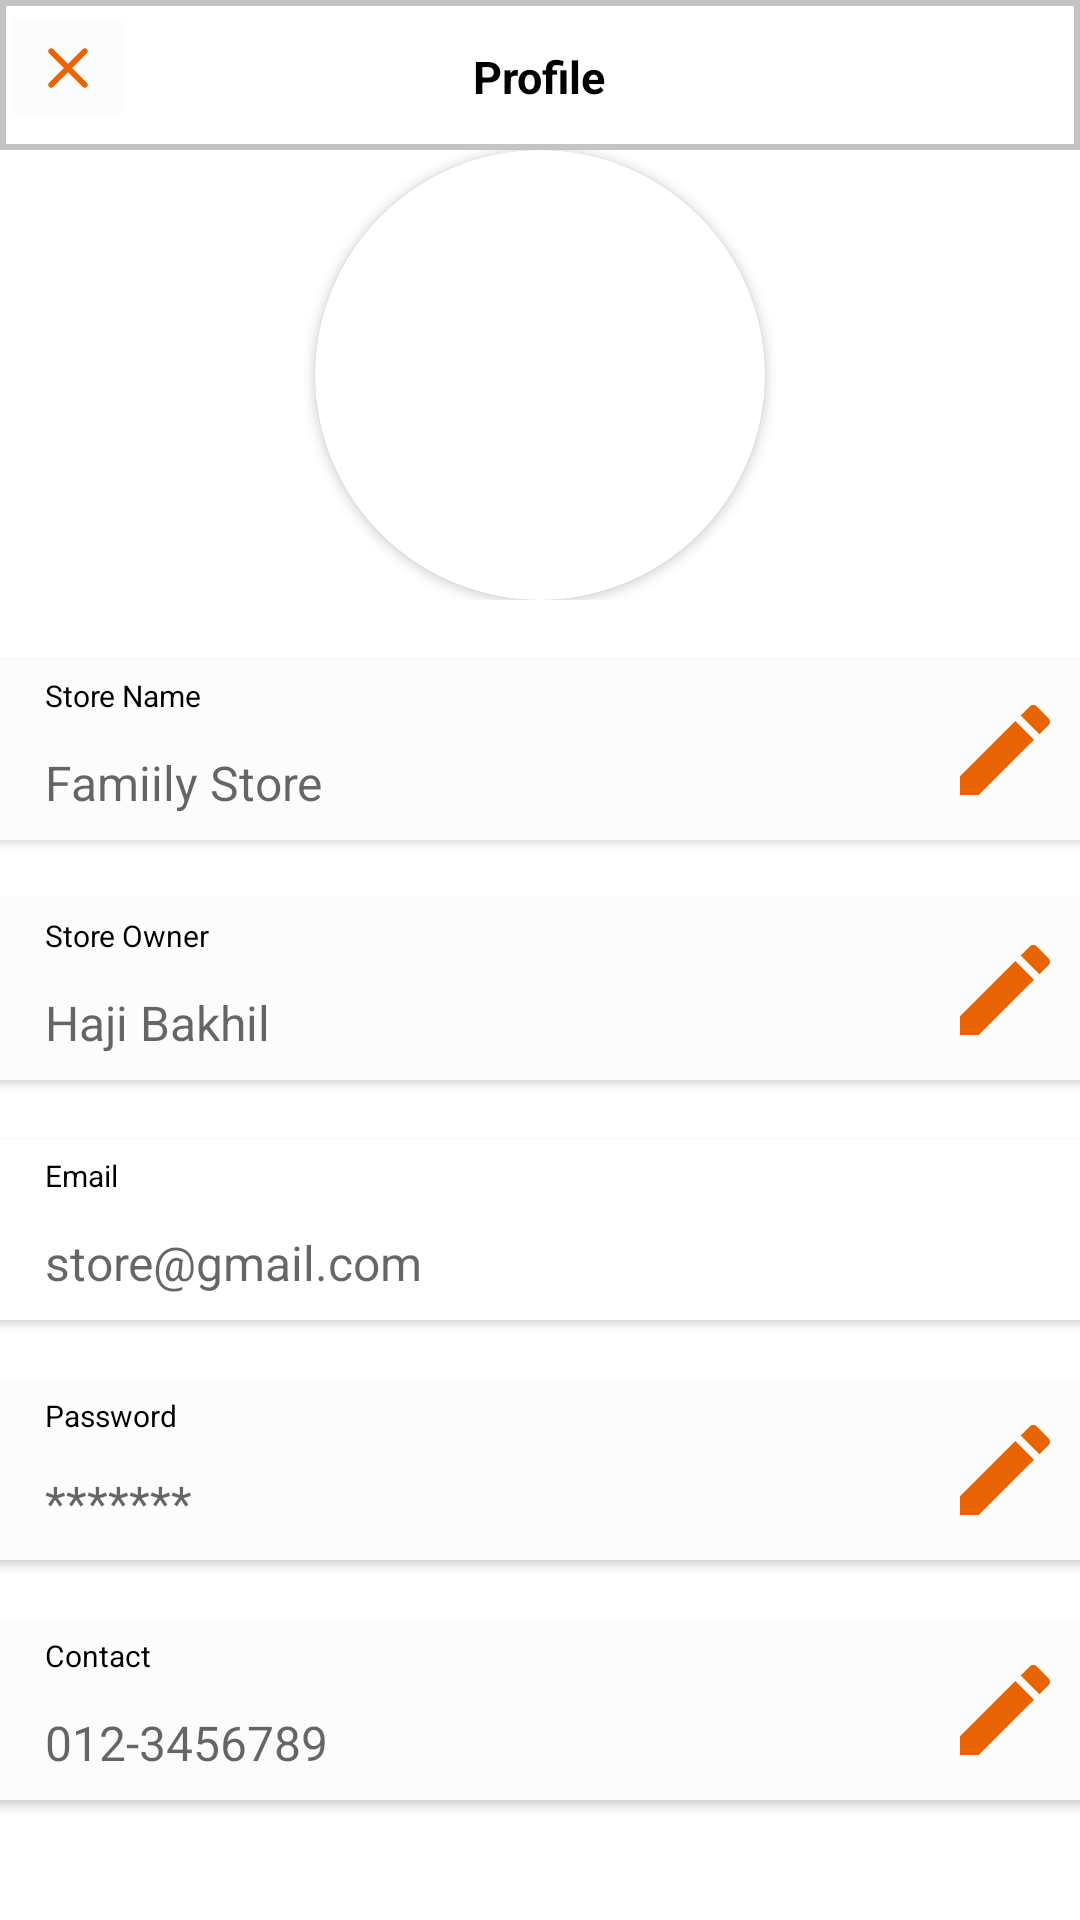

Named icons in this screenshot (1080w x 1920h) and their centers, (x,y):
clear: (67,67)
edit: (1005,750), (1005,990), (1005,1470), (1005,1710)
